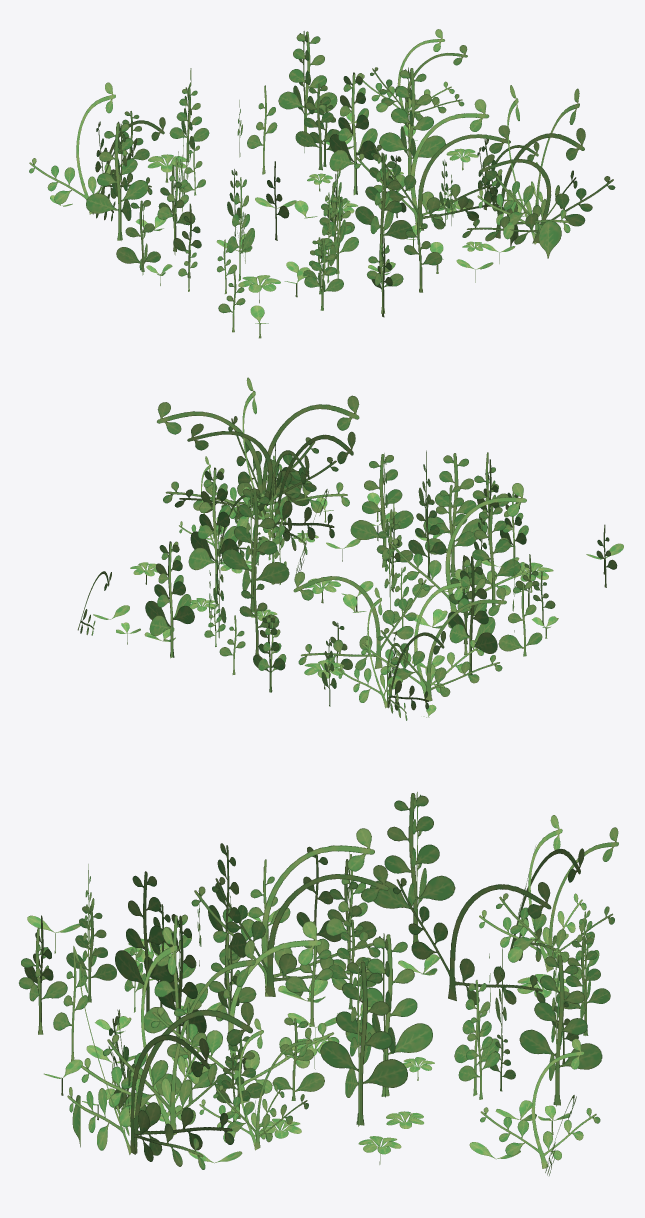
File: LeafSetG_20.fbx
The picture shows the model from 3 angles, top to bottom: view 1: azimuth 30°, elevation 25°; view 2: azimuth 150°, elevation 25°; view 3: azimuth 270°, elevation 25°; orthographic projection. The views are drawn at different scales.
Visible parts, largest first — view 1: LeafSetG_20; view 2: LeafSetG_20; view 3: LeafSetG_20.
Part boxes in pixels (x1,y1,x2,y2): LeafSetG_20: [29, 29, 615, 338]; LeafSetG_20: [77, 377, 623, 720]; LeafSetG_20: [19, 792, 618, 1175].
Bounding box in the file's own units: 2.51 × 0.7471 × 2.24.
